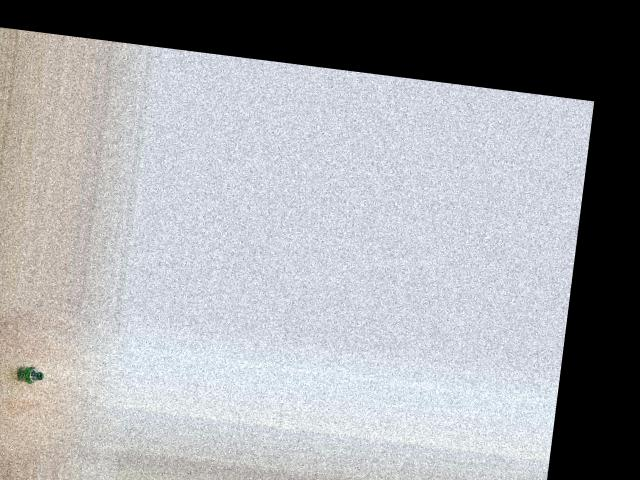beer: (15, 364, 44, 386)
